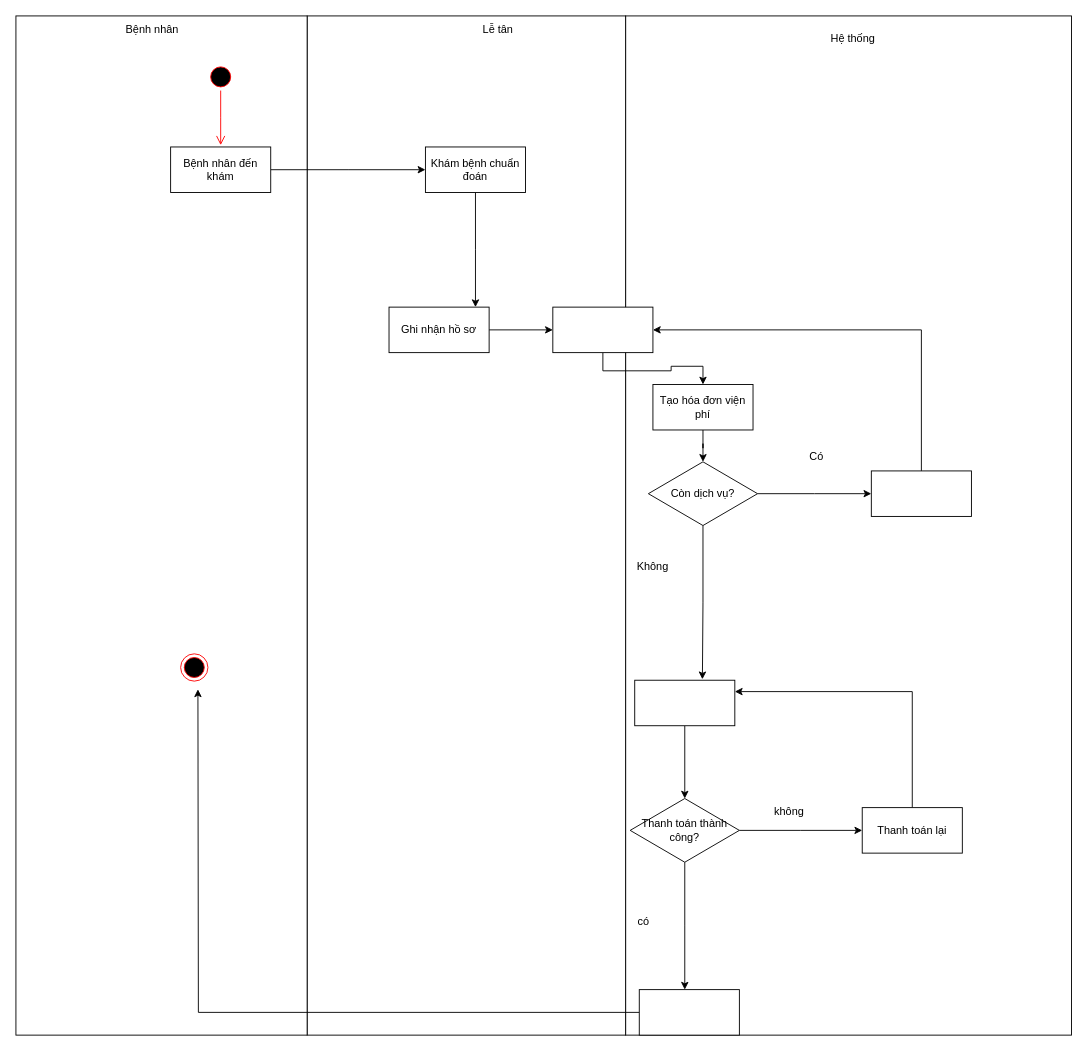
Some shapes in this 1087 by 1051 pixel diagram are drawn without their labels. Here are the shapes that lost their labels. From the top down, the box of each, then its label:
(552, 306, 653, 353): Thêm dịch vụ vào hóa đơn
(870, 470, 971, 516): Chọn tiếp theo
(634, 679, 735, 726): Bệnh nhân lựa chọn phương thức thanh toán
(638, 989, 739, 1035): In hóa đơn
